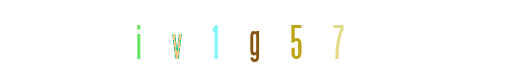1: (215, 0, 295, 80)
5: (237, 0, 317, 80)
7: (251, 0, 331, 80)
G: (215, 0, 295, 80)
I: (112, 0, 192, 80)
V: (170, 0, 250, 80)
